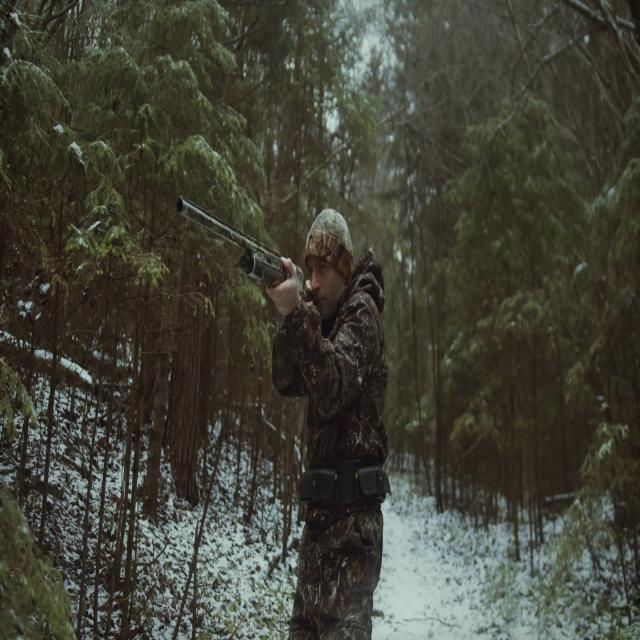poacher: (268, 207, 400, 552)
weapon: (180, 202, 296, 280)
